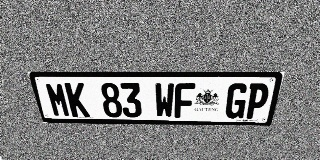3: (120, 83, 142, 118)
8: (99, 83, 123, 117)
F: (174, 83, 195, 118)
G: (224, 83, 250, 118)
K: (64, 82, 90, 117)
M: (44, 82, 71, 117)
P: (243, 83, 271, 119)
W: (154, 83, 174, 118)
